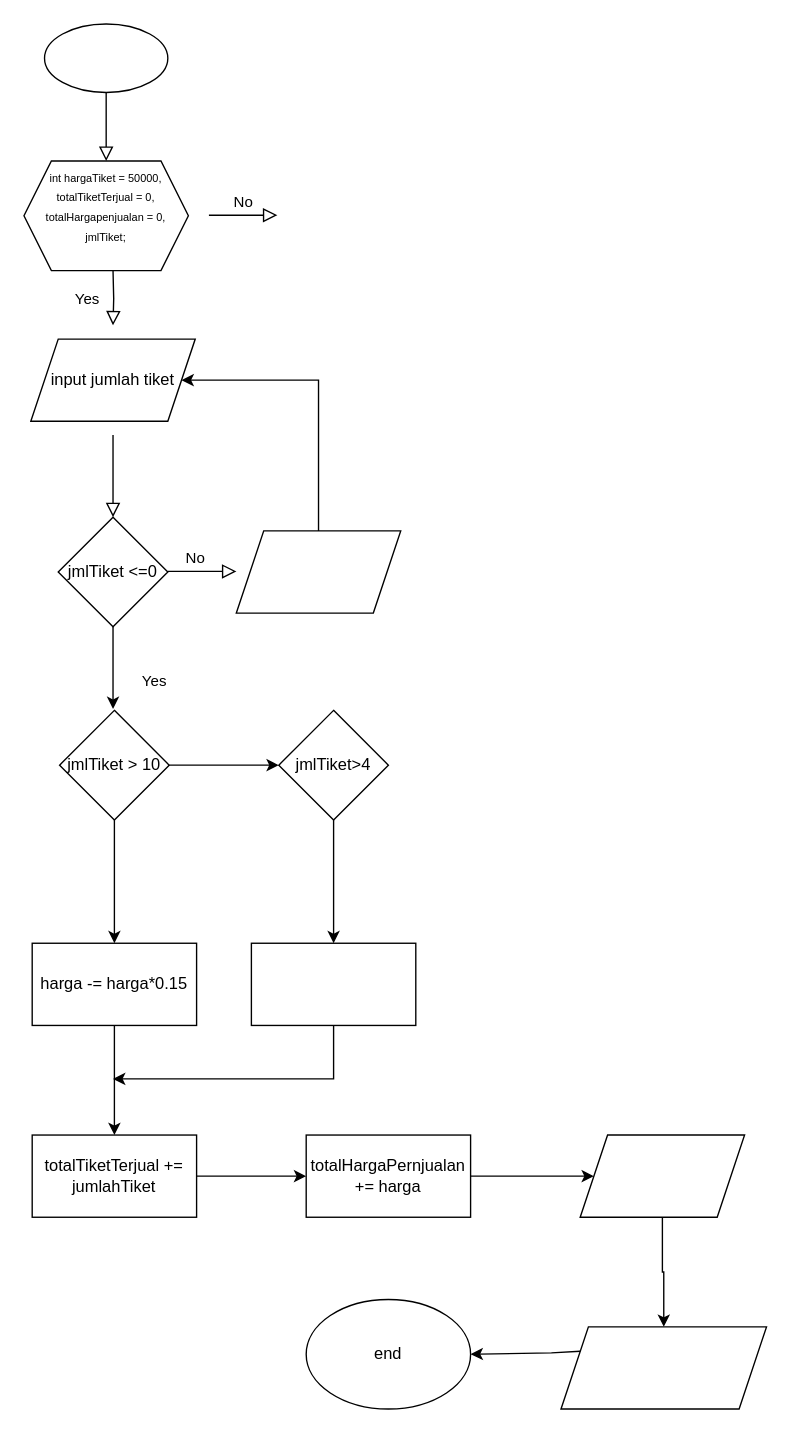
Some shapes in this 790 by 1433 pixel diagram are drawn without their labels. The centre of each missing label's shape, as x and y in pixels:
harga-=harga*0.10: pixel 333 983
mulai: pixel 105 57
output "Masukkan jumlah tiket yang benar": pixel 318 571
output totalHargapenjualan: pixel 663 1367
output totalTiketTerjual: pixel 662 1175
